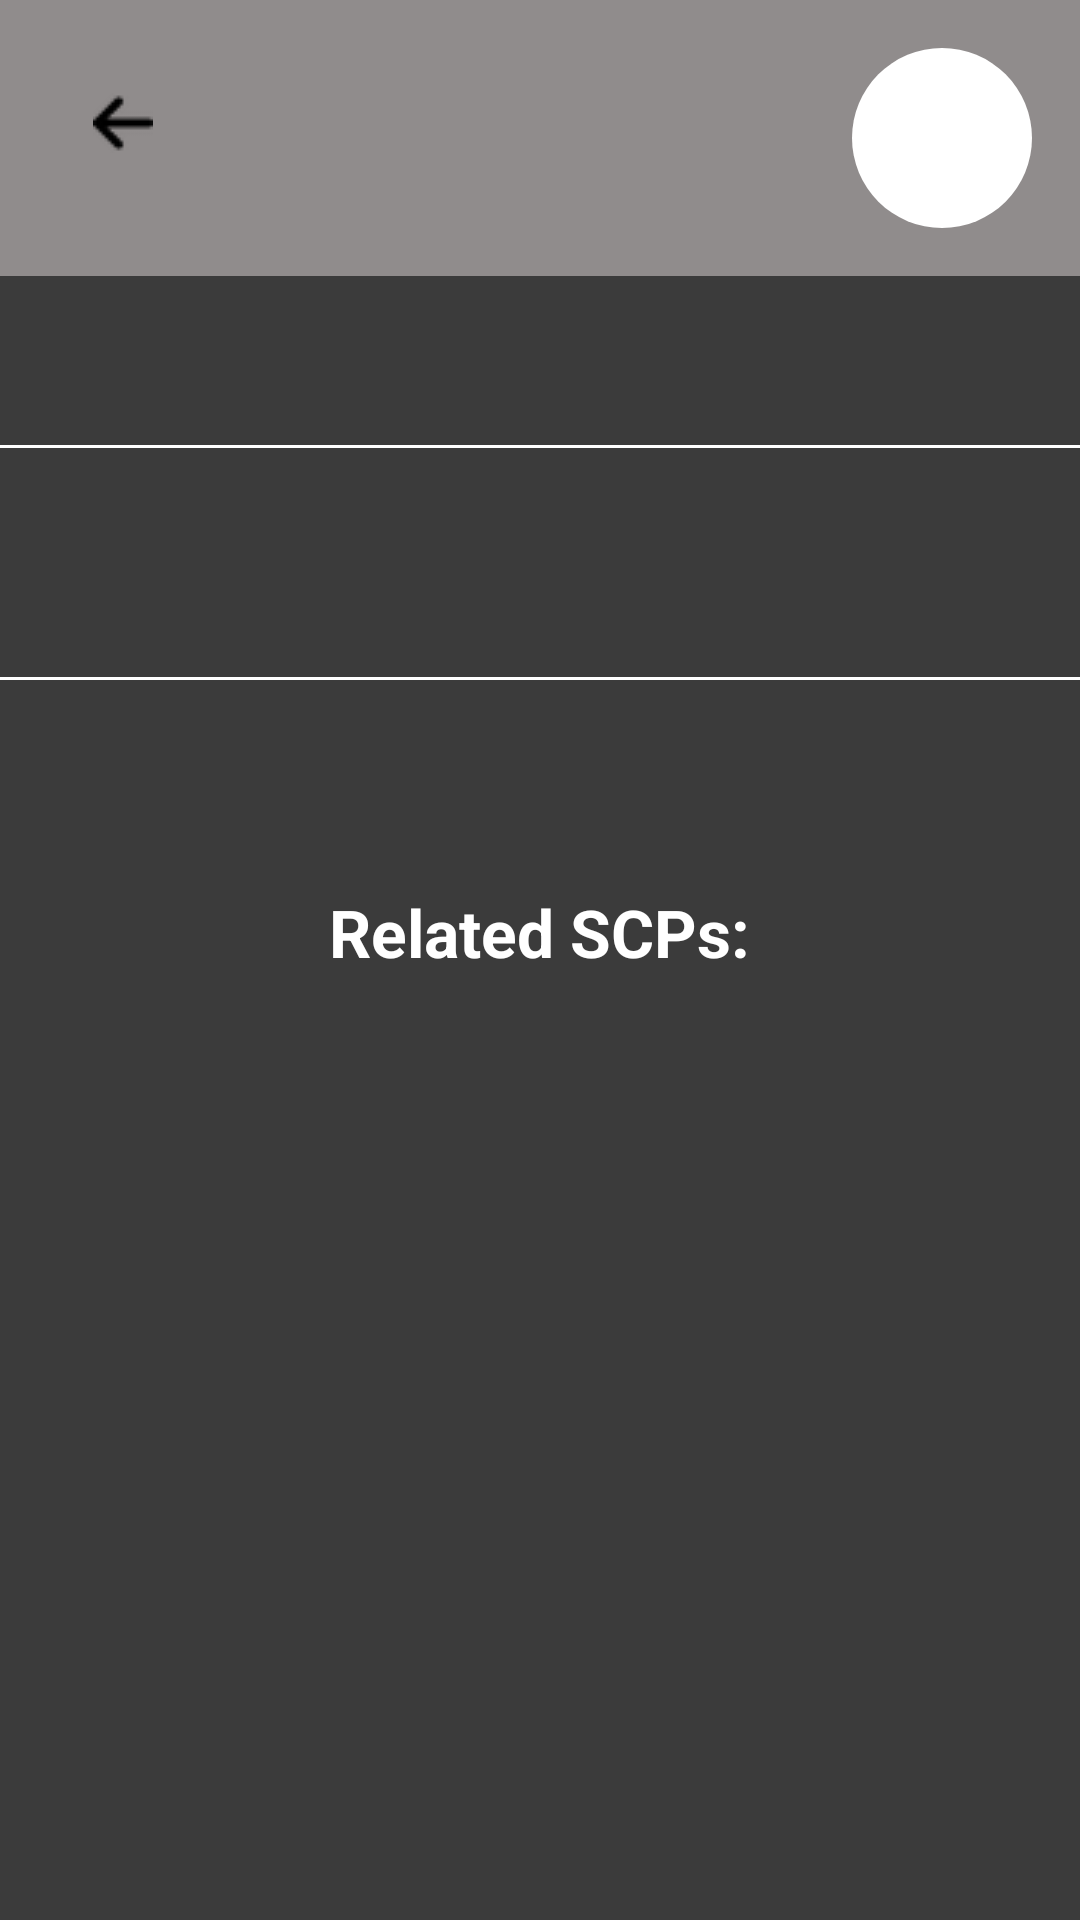

Locate icon controls on the screen. Image size 1080 × 1920, boxes as box=[x1, y1, x2, y2].
Back: box=[93, 96, 153, 150]
